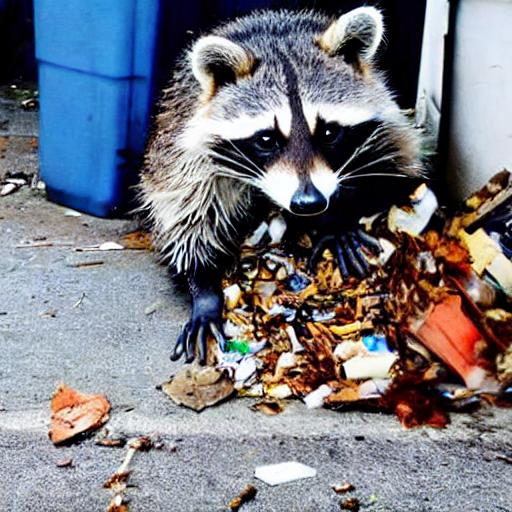raccoon: (128, 1, 433, 303)
